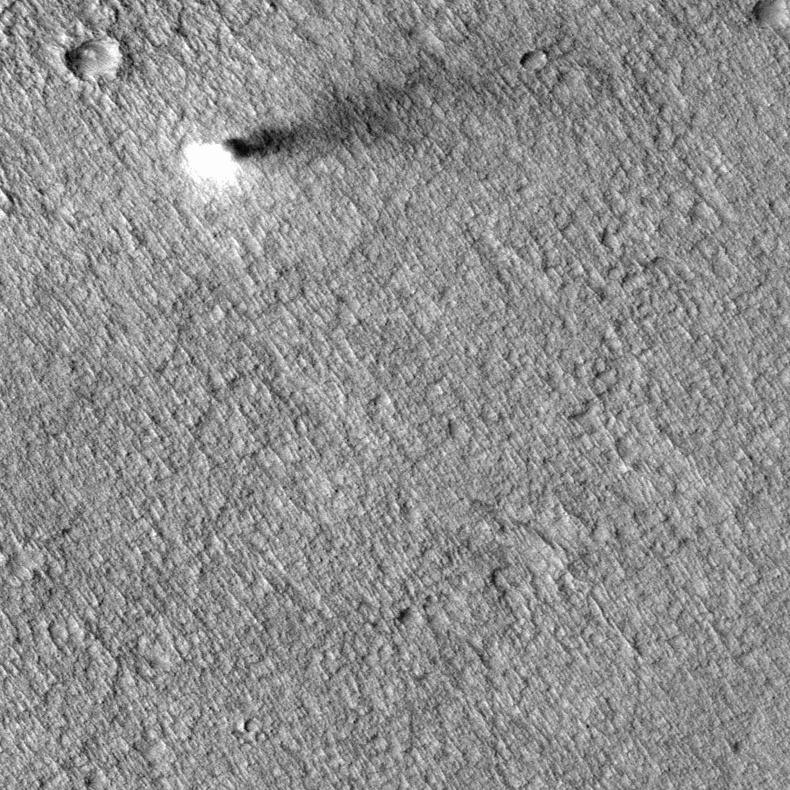dust_devil: (177, 76, 426, 193)
